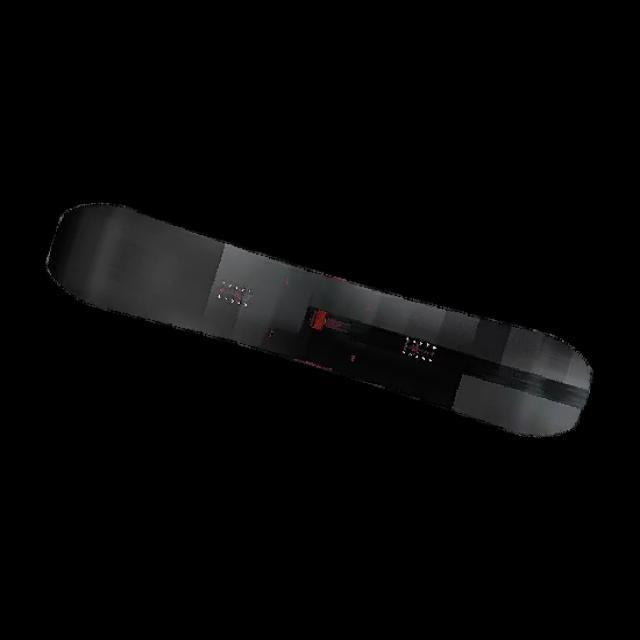Snowboard: (44, 200, 594, 440)
